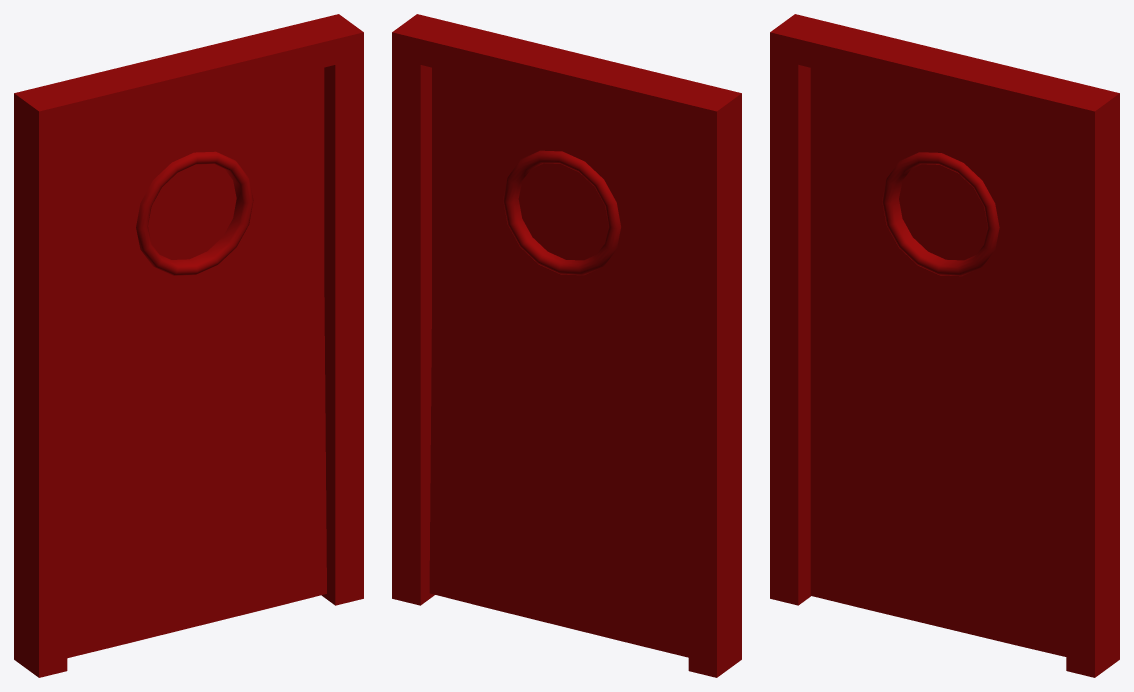
Rendered from Porte1.FBX.
3 renders of one model, left to right at view 1: azimuth 30°, elevation 25°; view 2: azimuth 150°, elevation 25°; view 3: azimuth 330°, elevation 25°, orthographic.
Visible parts, largest first — view 1: porte_C; view 2: porte_C; view 3: porte_C.
Part boxes in pixels (bbox=[...]): porte_C: bbox=[14, 14, 363, 677]; porte_C: bbox=[392, 14, 741, 677]; porte_C: bbox=[770, 14, 1119, 677].
Bounding box in the file's own units: 1.47 × 0.1966 × 2.46.
